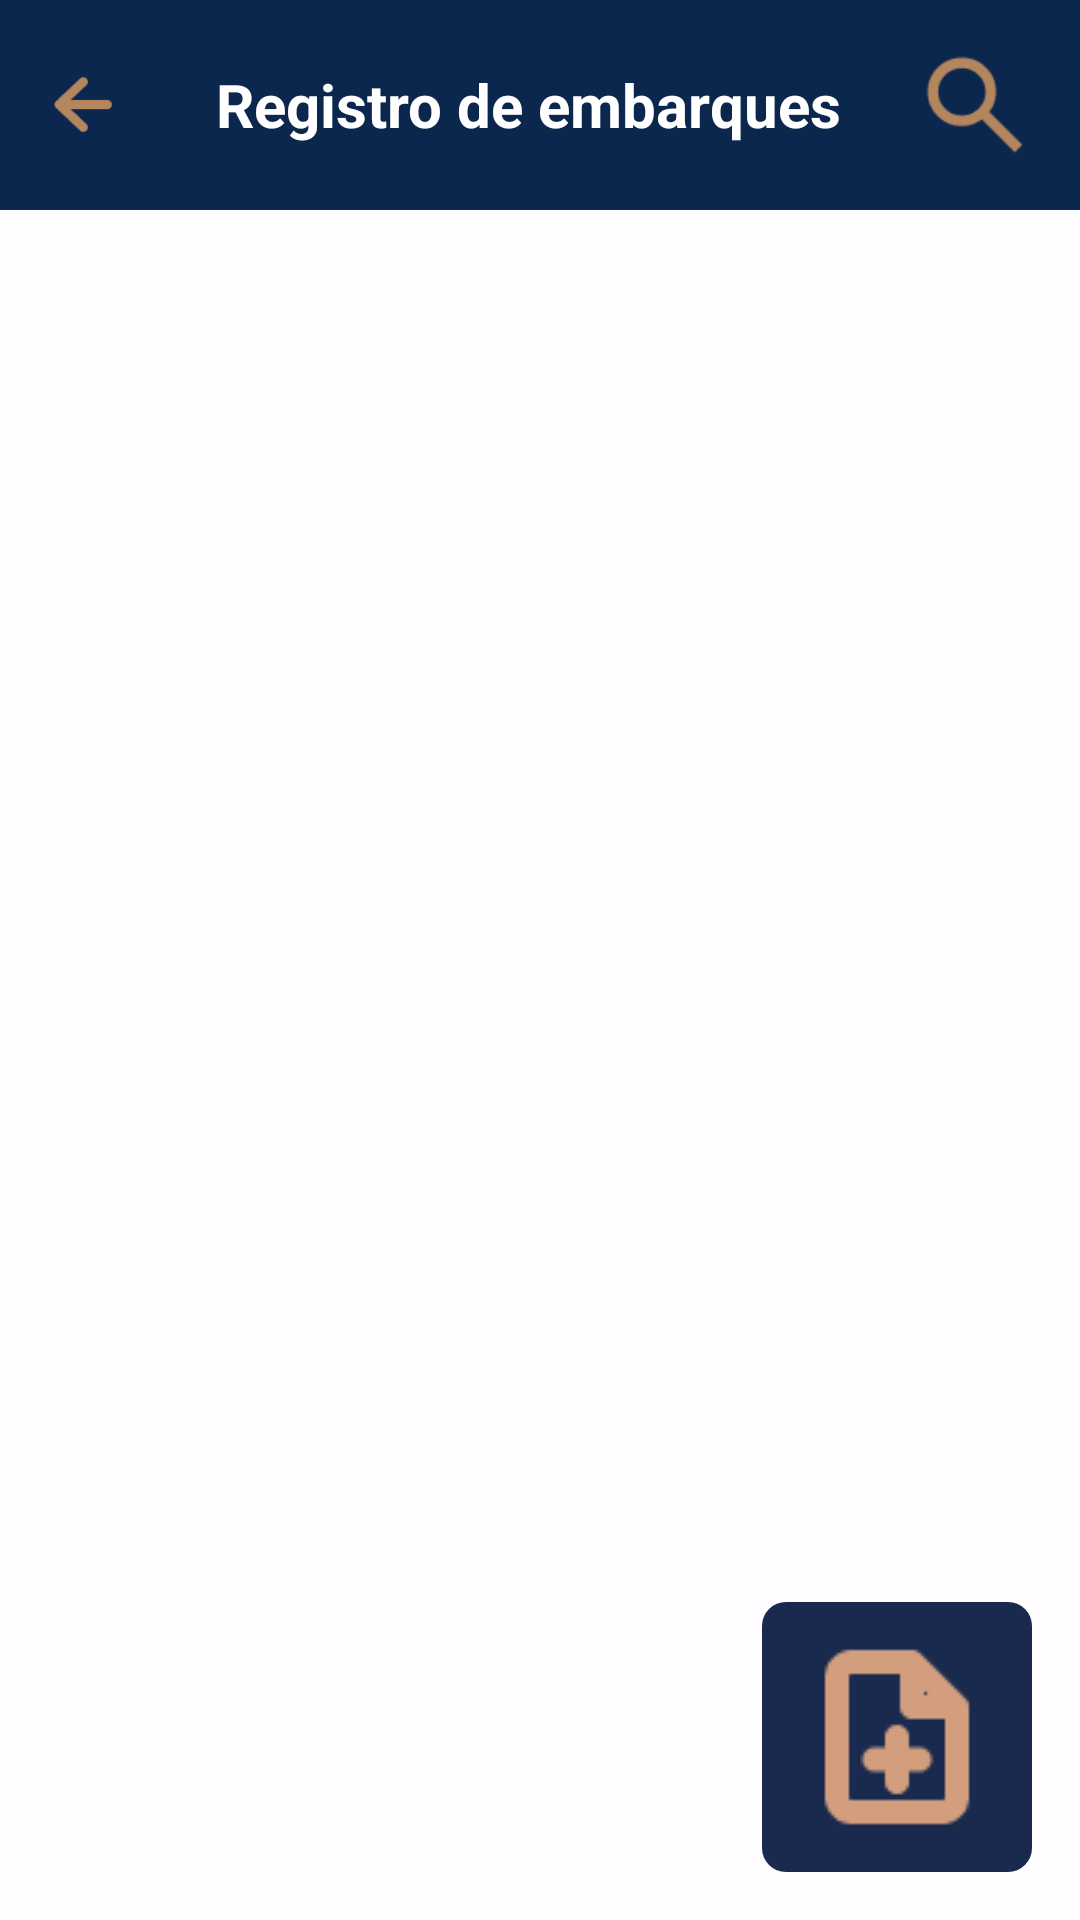

Screen size 1080×1920. Icon name, then its center in pixels as (x=x, y=y):
lupa: (x=974, y=104)
Novo: (x=897, y=1737)
Voltar: (x=83, y=104)
